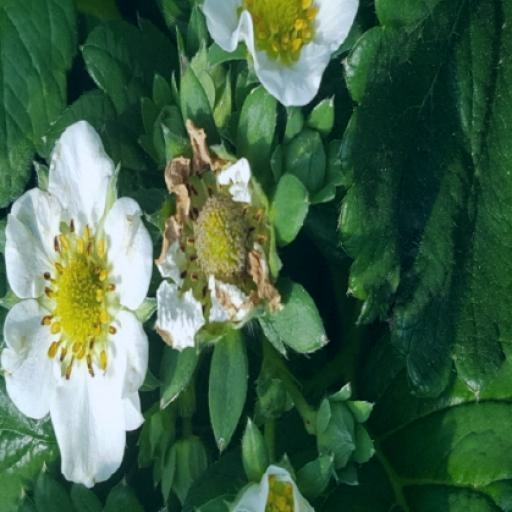Blossom Blight: (173, 195, 271, 349), (37, 129, 120, 295)
